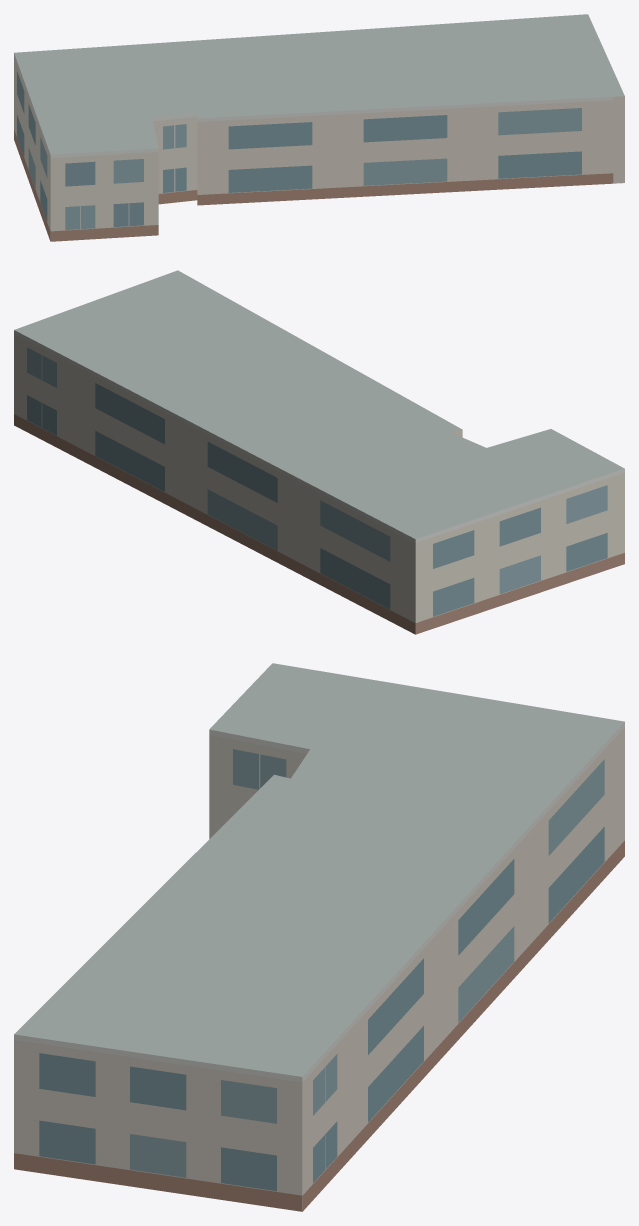
The model's file is survey-upis-32490412.glb.
3 views of the same model, one above another, from view 1: azimuth 30°, elevation 25°; view 2: azimuth 150°, elevation 25°; view 3: azimuth 270°, elevation 25° (orthographic). The views are drawn at different scales.
Visible parts, largest first — view 1: survey-upis-32490412.tmp; view 2: survey-upis-32490412.tmp; view 3: survey-upis-32490412.tmp.
Boxes of the visible parts, bbox=[...] form: survey-upis-32490412.tmp: bbox=[14, 14, 624, 241]; survey-upis-32490412.tmp: bbox=[14, 270, 624, 634]; survey-upis-32490412.tmp: bbox=[14, 663, 624, 1211].
Bounding box in the file's own units: 40.16 × 6.1 × 25.05.
